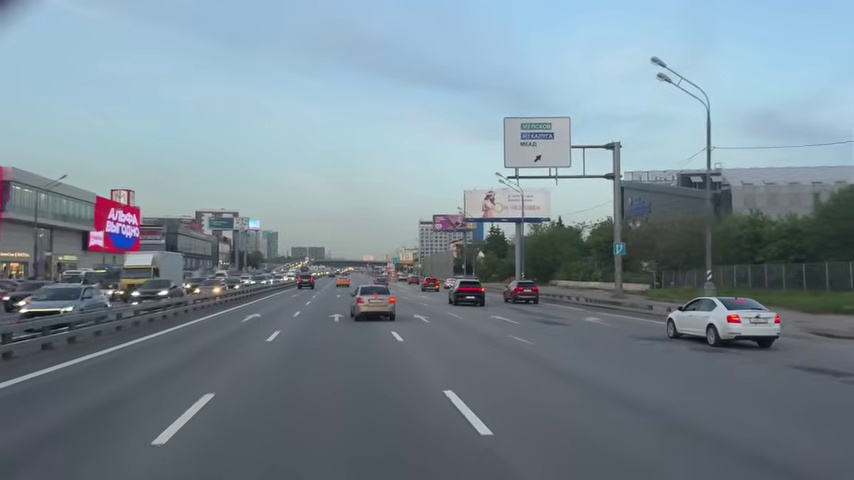apagada: (649, 57, 675, 90), (648, 55, 668, 85)
